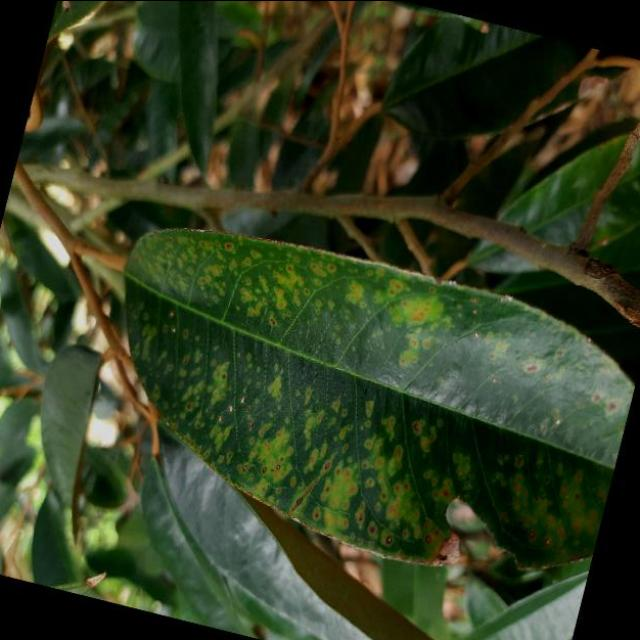Leaf Spot: (50, 190, 640, 616)
